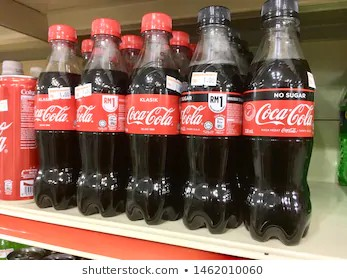coke-bottle-700ml: (126, 7, 183, 229), (28, 24, 79, 210), (79, 13, 125, 216)
coke-diet/zero-bottle-700ml: (246, 1, 320, 243), (178, 4, 244, 233)
